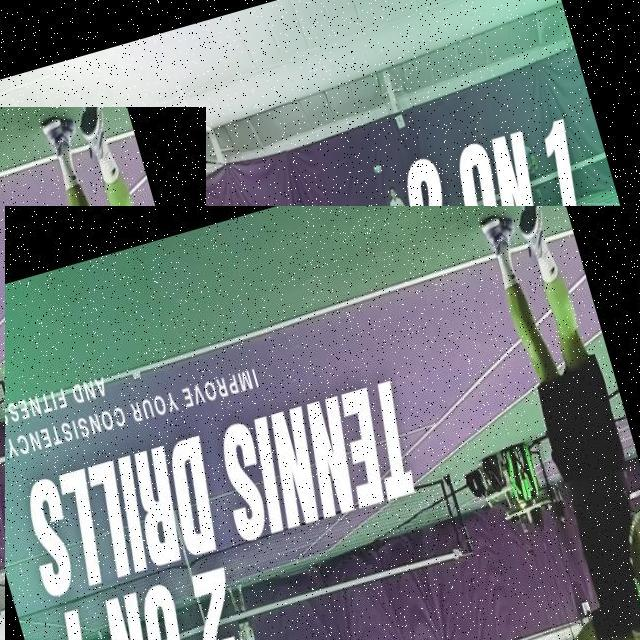court: (5, 206, 640, 640)
net: (162, 152, 632, 377)
player: (0, 107, 206, 640)
